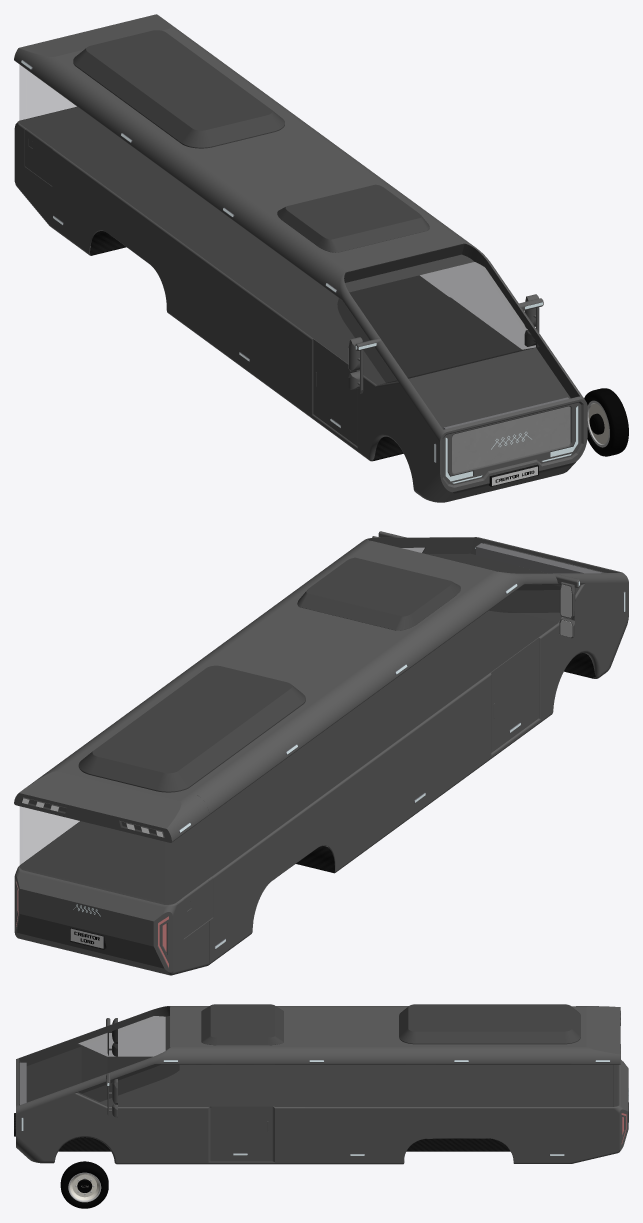
The picture shows the model from 3 angles, top to bottom: view 1: azimuth 30°, elevation 25°; view 2: azimuth 150°, elevation 25°; view 3: azimuth 270°, elevation 25°; orthographic projection. The views are drawn at different scales.
Bounding box in the file's own units: 0.0317 × 0.0247 × 0.0982.
21 materials, 3 textured.
